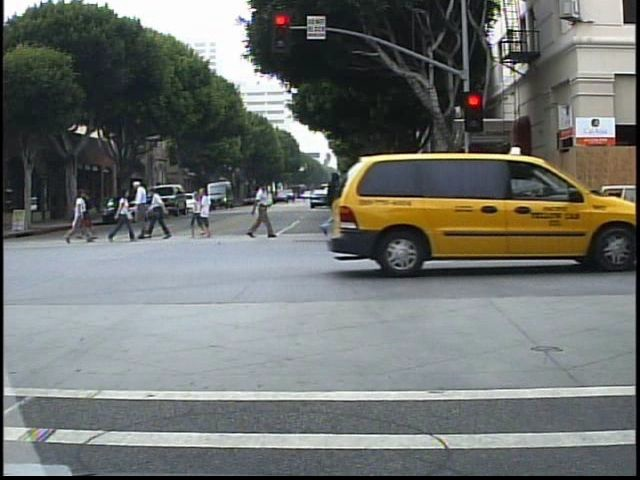person: (246, 181, 278, 241), (319, 166, 345, 239), (65, 187, 96, 245), (133, 176, 154, 244), (149, 185, 174, 241), (111, 187, 131, 245), (86, 189, 98, 244)
